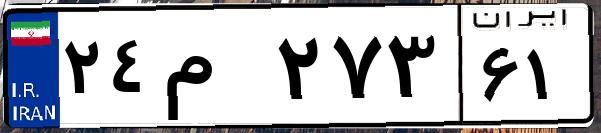1: (525, 38, 570, 115)
2: (270, 28, 330, 110), (57, 26, 110, 100)
3: (385, 28, 445, 110)
4: (110, 28, 158, 98)
6: (475, 38, 525, 113)
7: (330, 28, 385, 110)
م: (158, 20, 270, 120)
